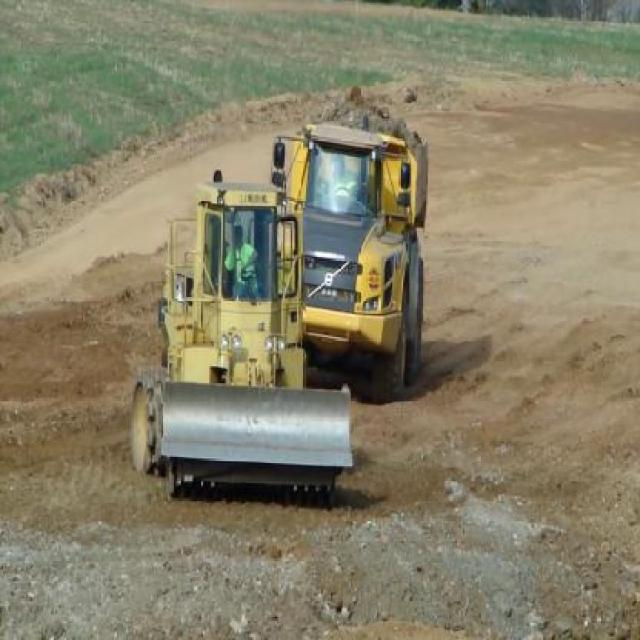Dump Truck: (284, 96, 430, 398)
